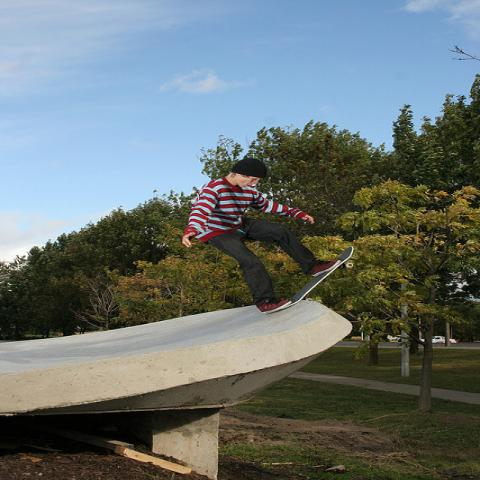car: (420, 336, 457, 344)
